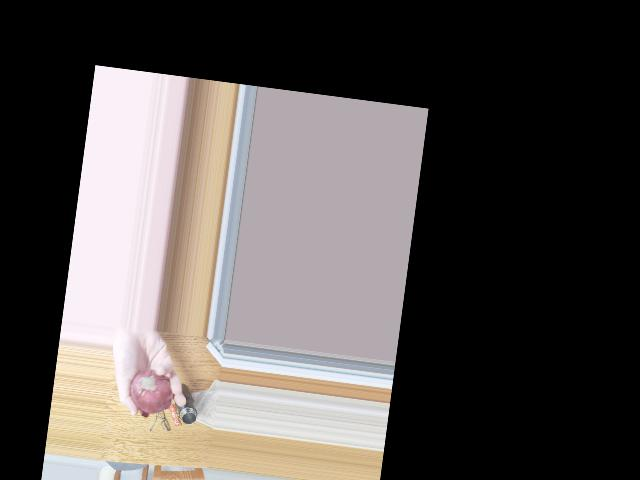onion: (126, 362, 169, 413)
